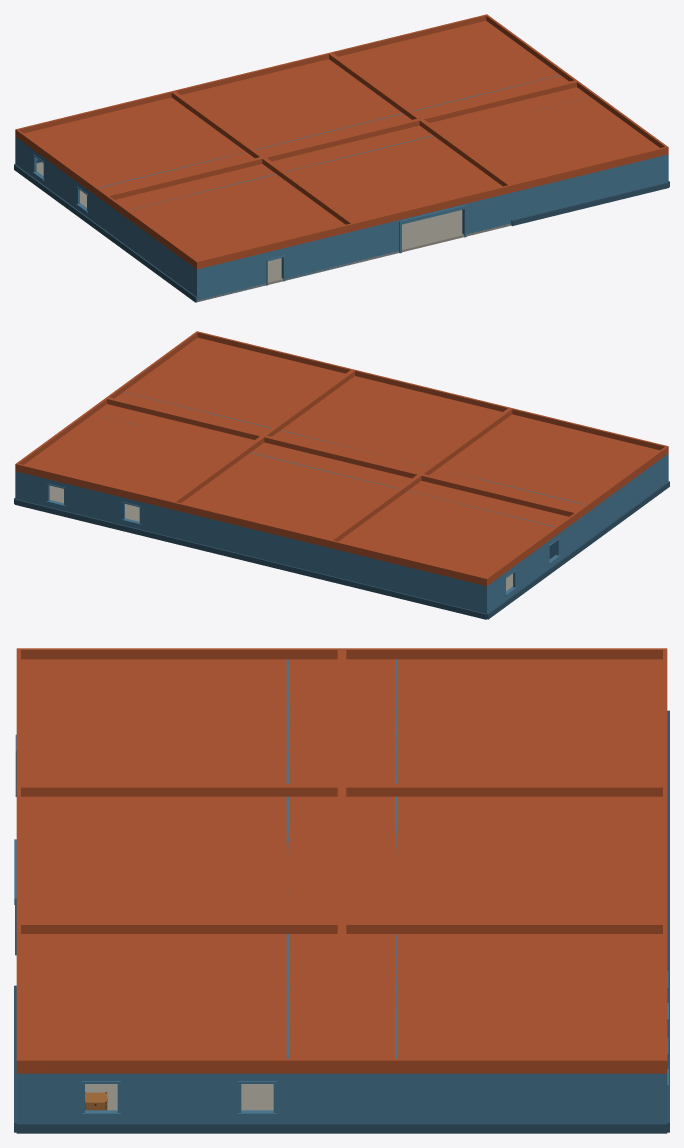
Rendered from warehouse_metal.glb.
3 views of the same model, one above another, from view 1: azimuth 30°, elevation 25°; view 2: azimuth 150°, elevation 25°; view 3: azimuth 270°, elevation 25° (orthographic). The views are drawn at different scales.
Visible parts, largest first — view 1: warehouse_metal; view 2: warehouse_metal; view 3: warehouse_metal.
Boxes of the visible parts, bbox=[...] form: warehouse_metal: bbox=[14, 14, 669, 302]; warehouse_metal: bbox=[14, 331, 669, 619]; warehouse_metal: bbox=[14, 648, 669, 1133].
Bounding box in the file's own units: 45.26 × 3.66 × 30.26.
